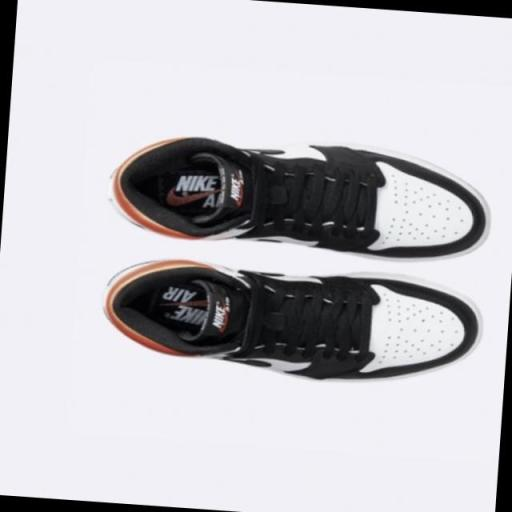Nike: (166, 187, 219, 208), (174, 172, 216, 193)
